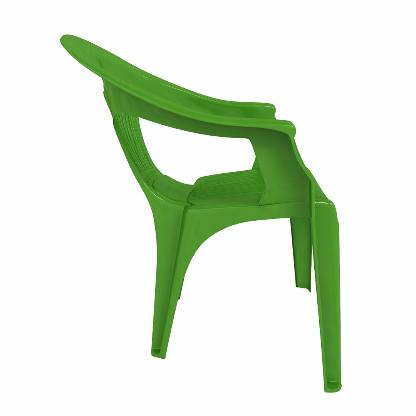chair: (55, 25, 353, 397)
